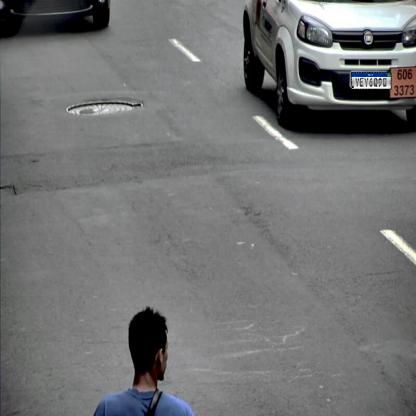PlacaM: (351, 72, 392, 90)
